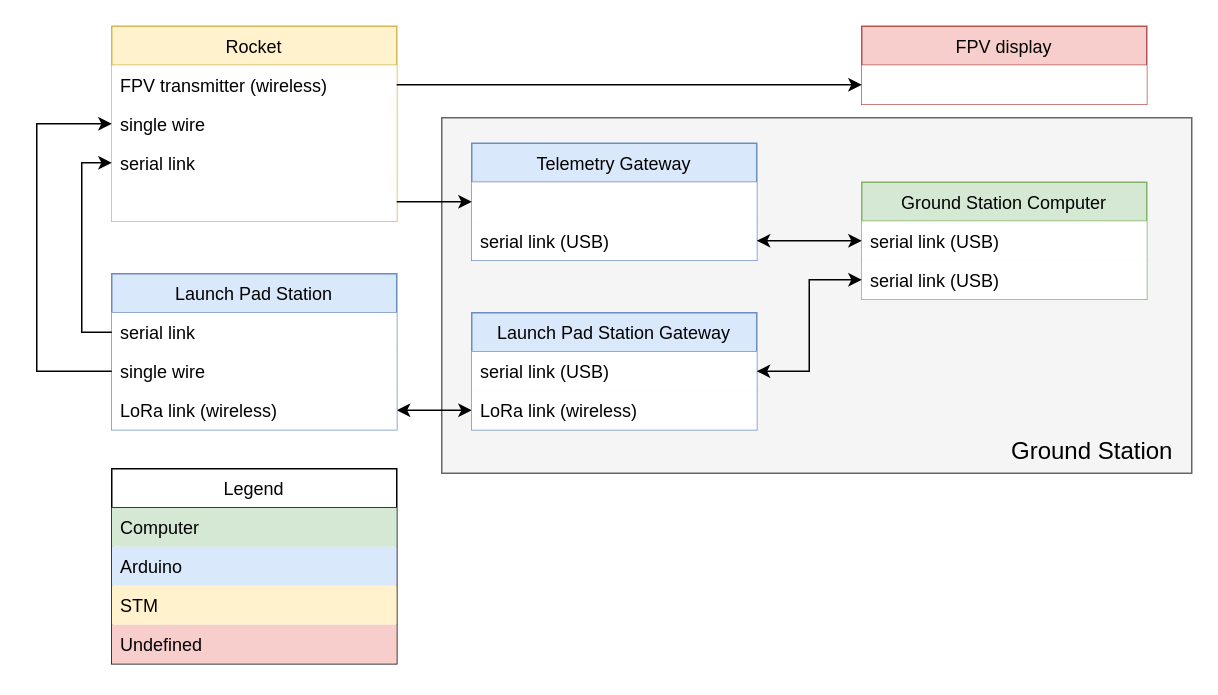
Some shapes in this 1218 by 695 pixel diagram are drawn without their labels. The centre of each missing label's shape, as x and y in pixels:
FPV receiver (wireless): the point at 1003,84
telemetry receiver (wireless): the point at 613,201
telemetry transmitter (wireless): the point at 253,201
